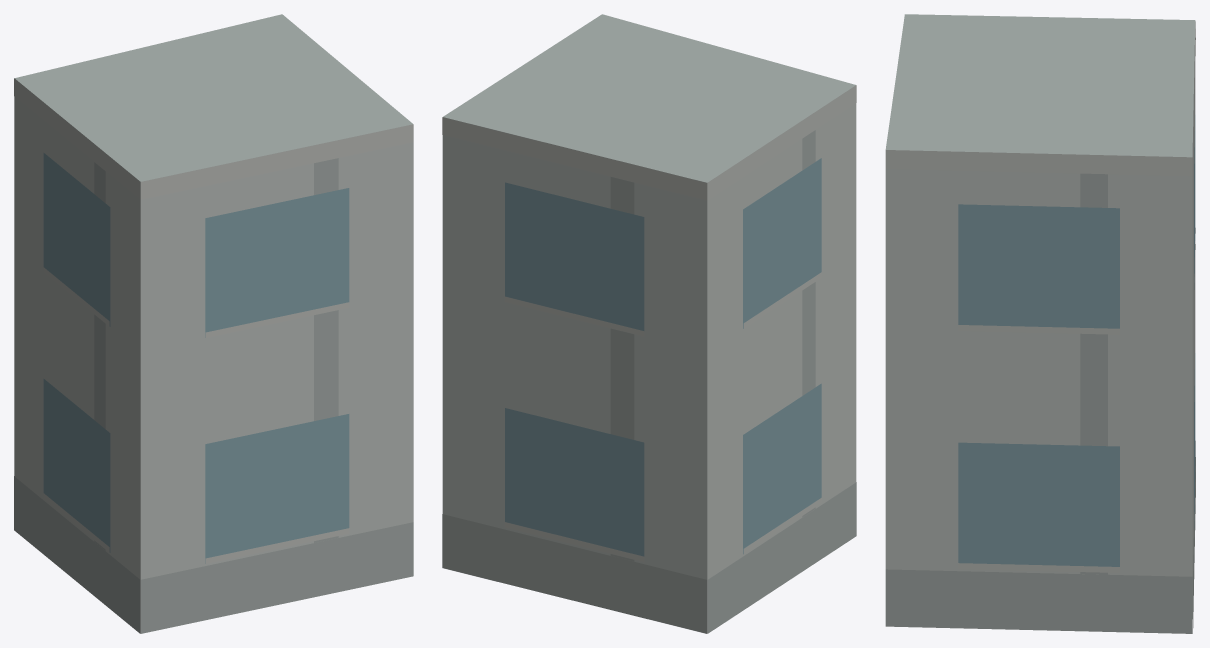
The model's file is survey-upis-32748455.glb.
3 renders of one model, left to right at view 1: azimuth 30°, elevation 25°; view 2: azimuth 150°, elevation 25°; view 3: azimuth 270°, elevation 25°, orthographic. The views are drawn at different scales.
Visible parts, largest first — view 1: survey-upis-32748455.tmp; view 2: survey-upis-32748455.tmp; view 3: survey-upis-32748455.tmp.
Part boxes in pixels (x1,y1,x2,y2): survey-upis-32748455.tmp: (14,14,413,633); survey-upis-32748455.tmp: (442,14,856,633); survey-upis-32748455.tmp: (885,14,1195,633).
Bounding box in the file's own units: 3.94 × 6.1 × 3.61.
